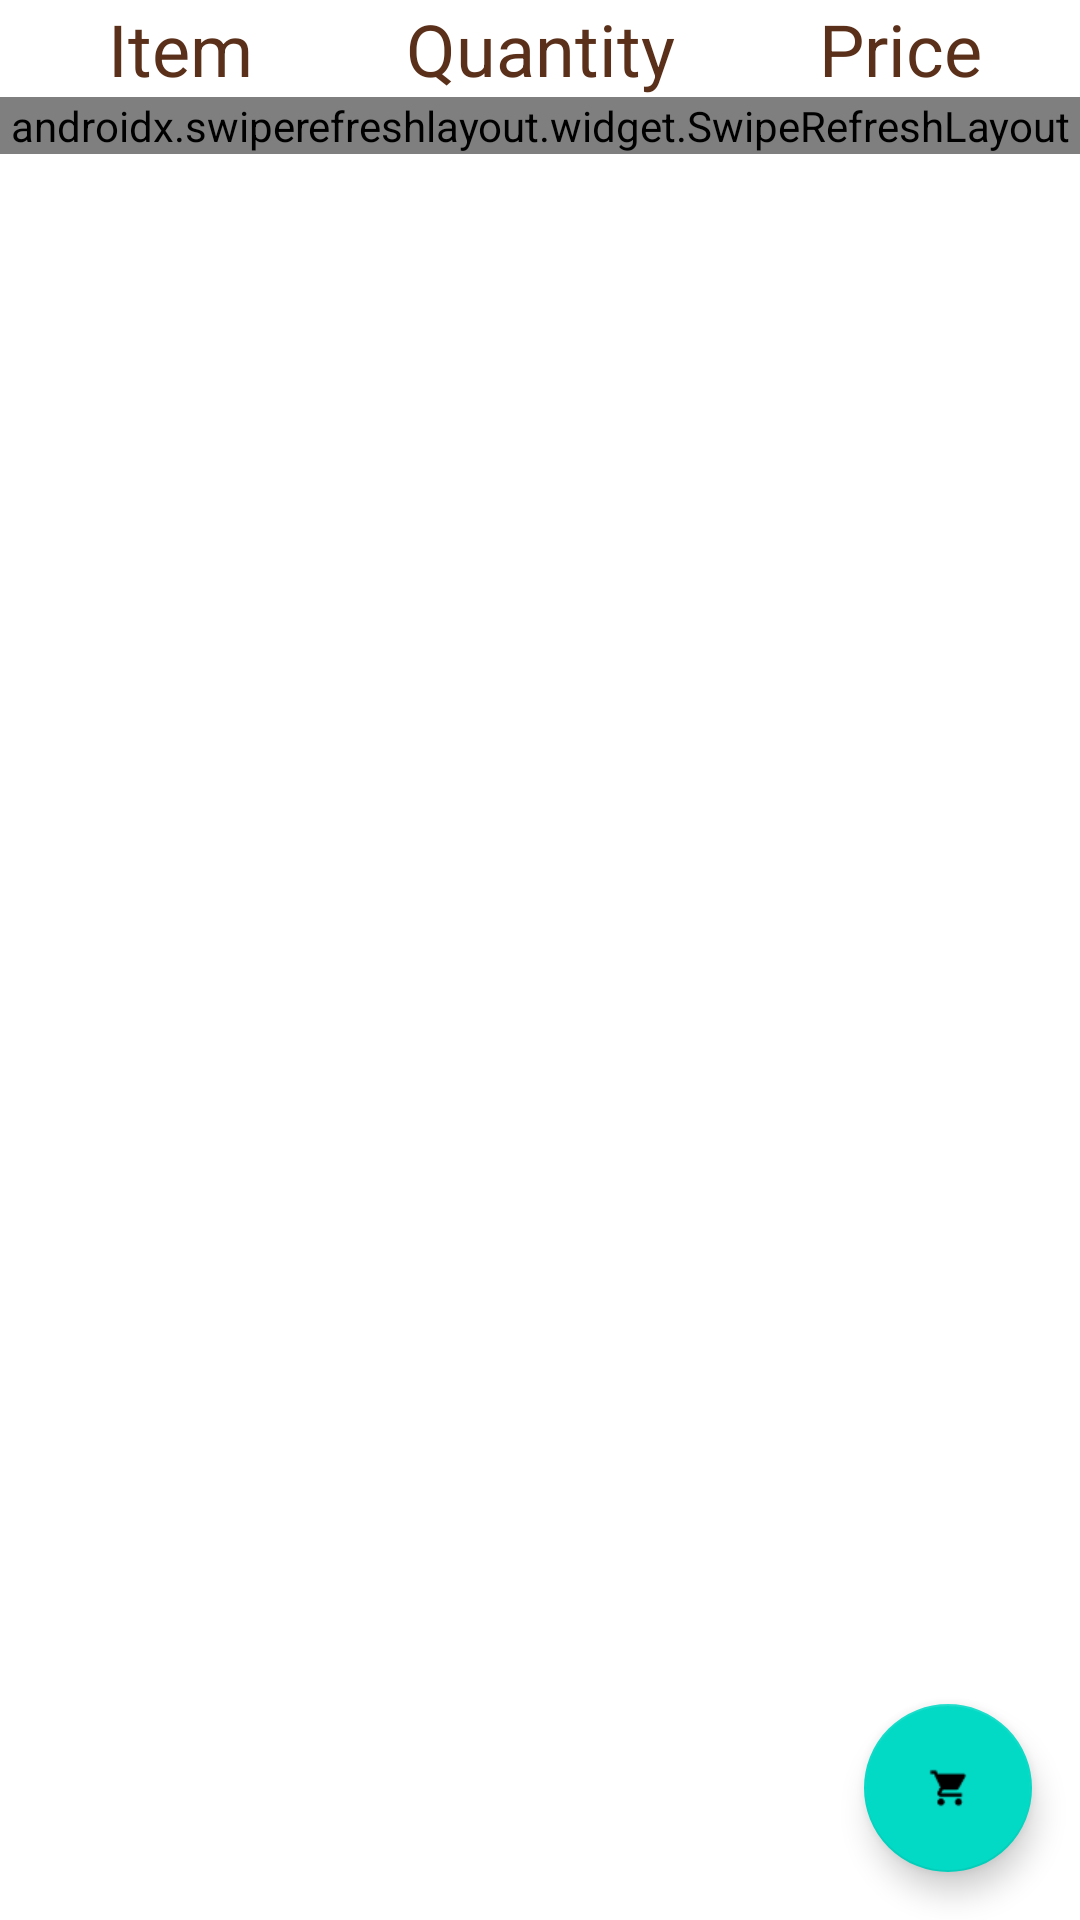

Named icons in this screenshot (1080 × 1920) and their bounding boxes, {"left": x1, "top": y1, "right": x2, "bottom": y2}:
shopping cart: {"left": 864, "top": 1704, "right": 1032, "bottom": 1872}
